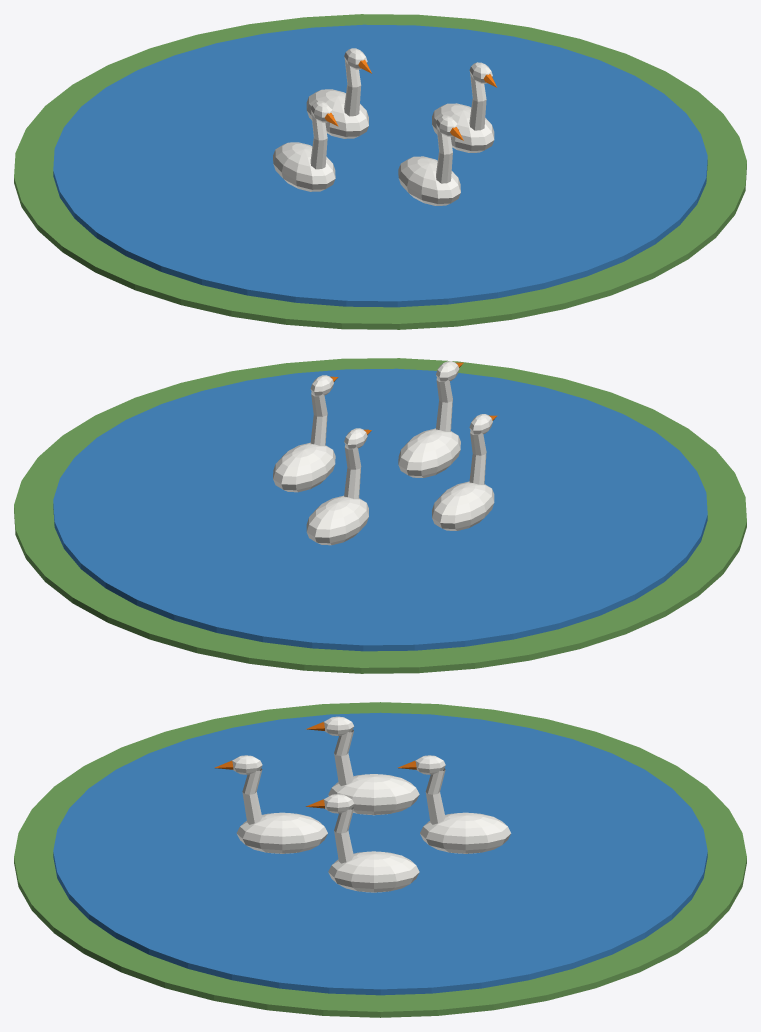
The model's file is lough.glb.
The picture shows the model from 3 angles, top to bottom: view 1: azimuth 30°, elevation 25°; view 2: azimuth 150°, elevation 25°; view 3: azimuth 270°, elevation 25°; orthographic projection.
Size of the model in its own units: 2.24 by 0.36 by 2.24.
